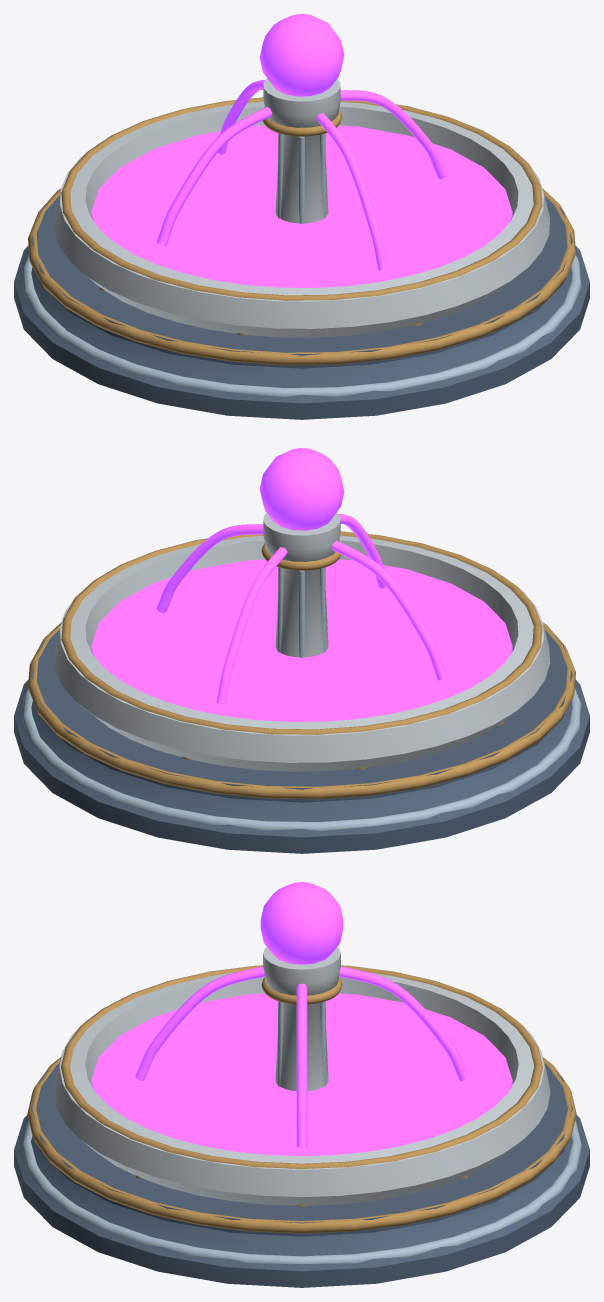
File: moonsteel-convergence-moonwell-fountain-1aebf98e__18153.glb
The picture shows the model from 3 angles, top to bottom: view 1: azimuth 30°, elevation 25°; view 2: azimuth 150°, elevation 25°; view 3: azimuth 270°, elevation 25°; orthographic projection.
Parts seen in each view (by area): view 1: moonwell-fountain; view 2: moonwell-fountain; view 3: moonwell-fountain.
Boxes of the visible parts, x1,y1,x2,y2 form: moonwell-fountain: (14, 14, 589, 419); moonwell-fountain: (14, 448, 589, 853); moonwell-fountain: (14, 882, 589, 1287).
Bounding box in the file's own units: 3.8 × 2.04 × 3.8.
